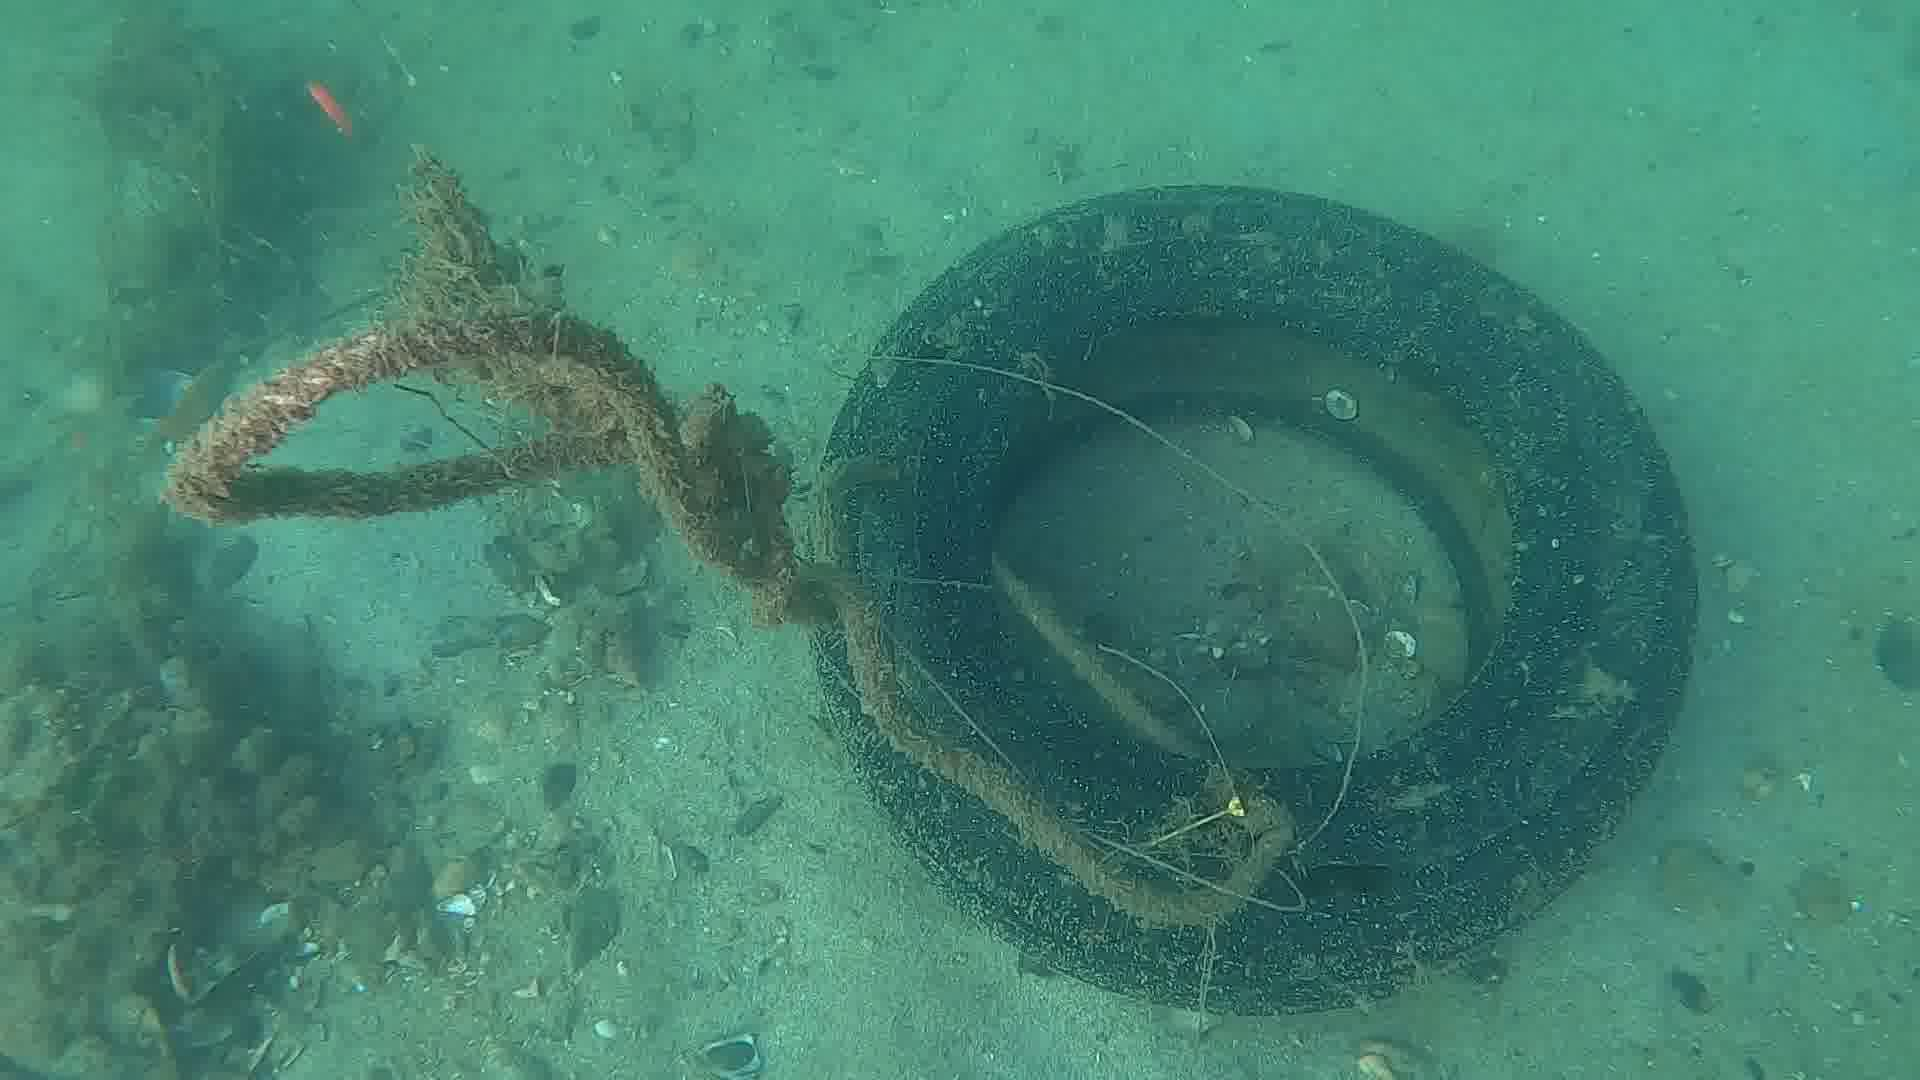bundle of ropes: (157, 314, 1298, 927)
tire: (808, 179, 1701, 1015)
